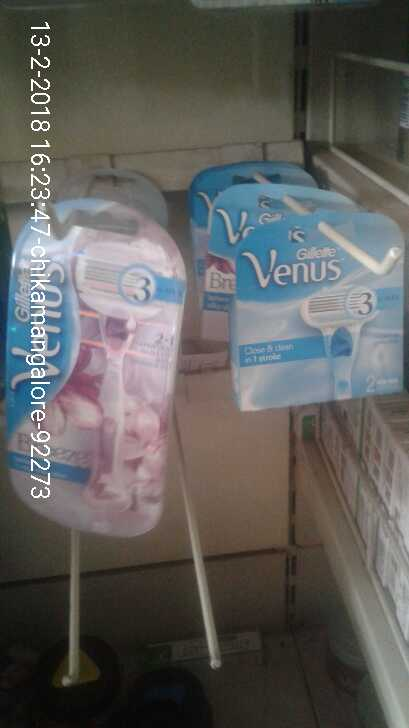venus: (1, 200, 193, 546), (228, 224, 409, 418)
